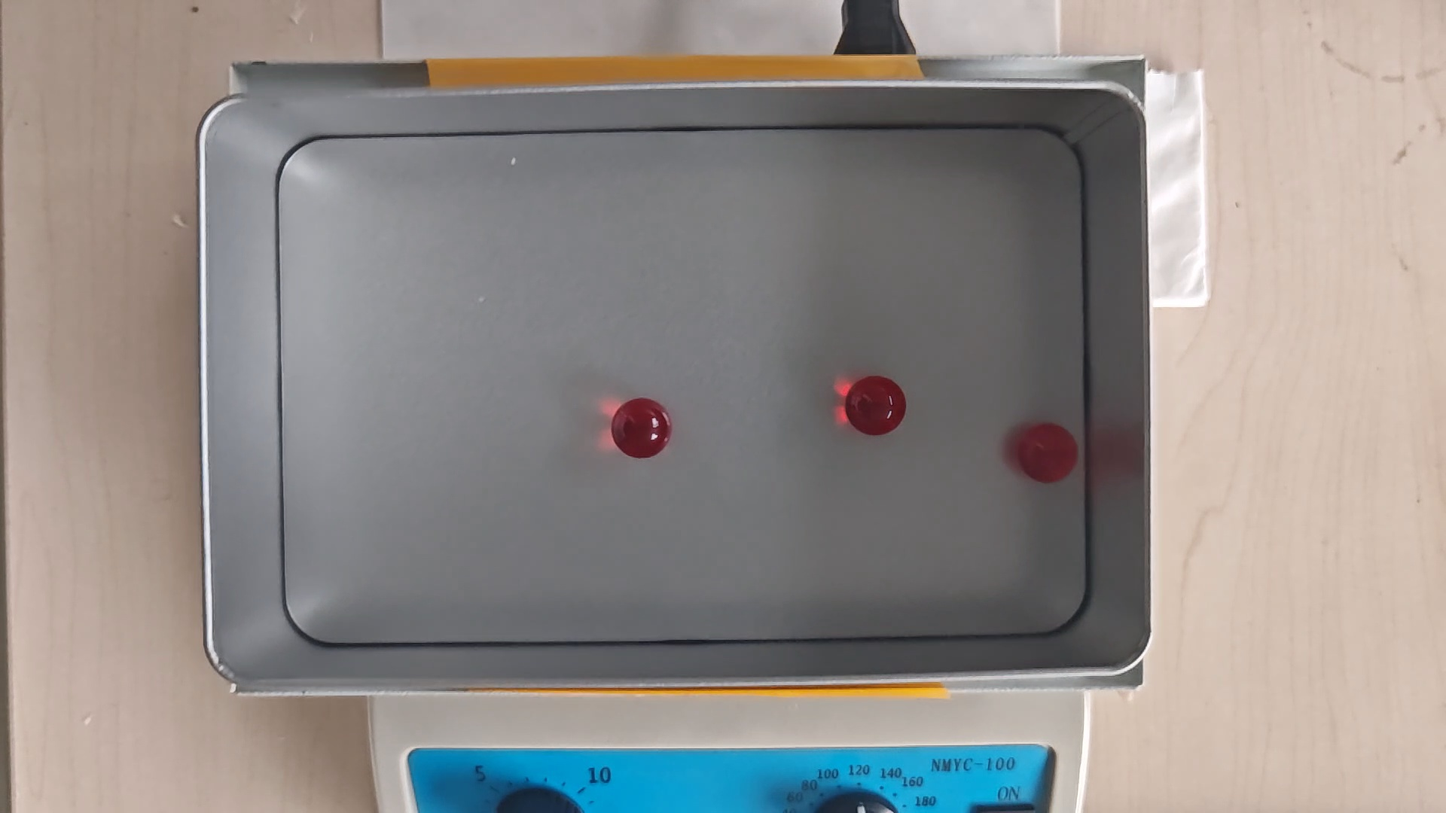ball: (846, 374, 909, 438), (613, 396, 672, 461), (1018, 422, 1077, 486)
container: (273, 132, 1091, 644)
